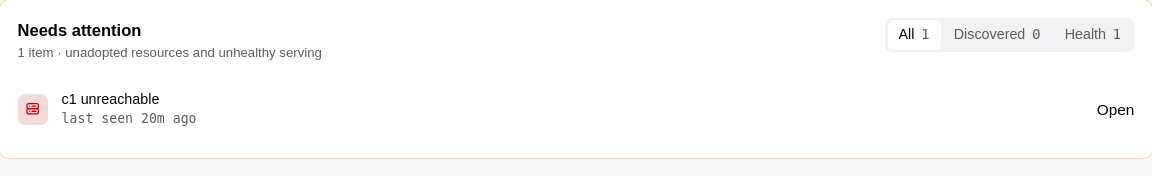
Test case: NeedsAttention › does not claim it on the discovered tab while health items exist
Click the button "Discovered 0".
click(997, 35)  # box [943,20,1052,50]
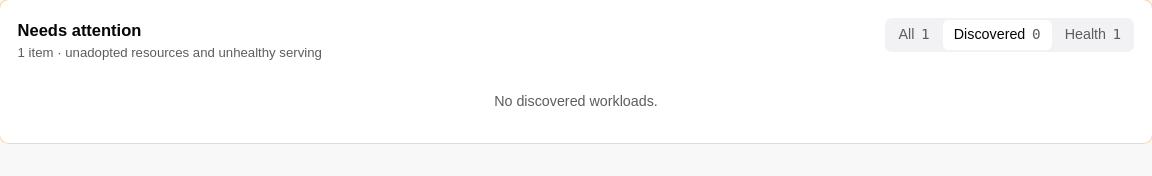
Now the text "No discovered workloads." is shown, box [494,94,658,110]
